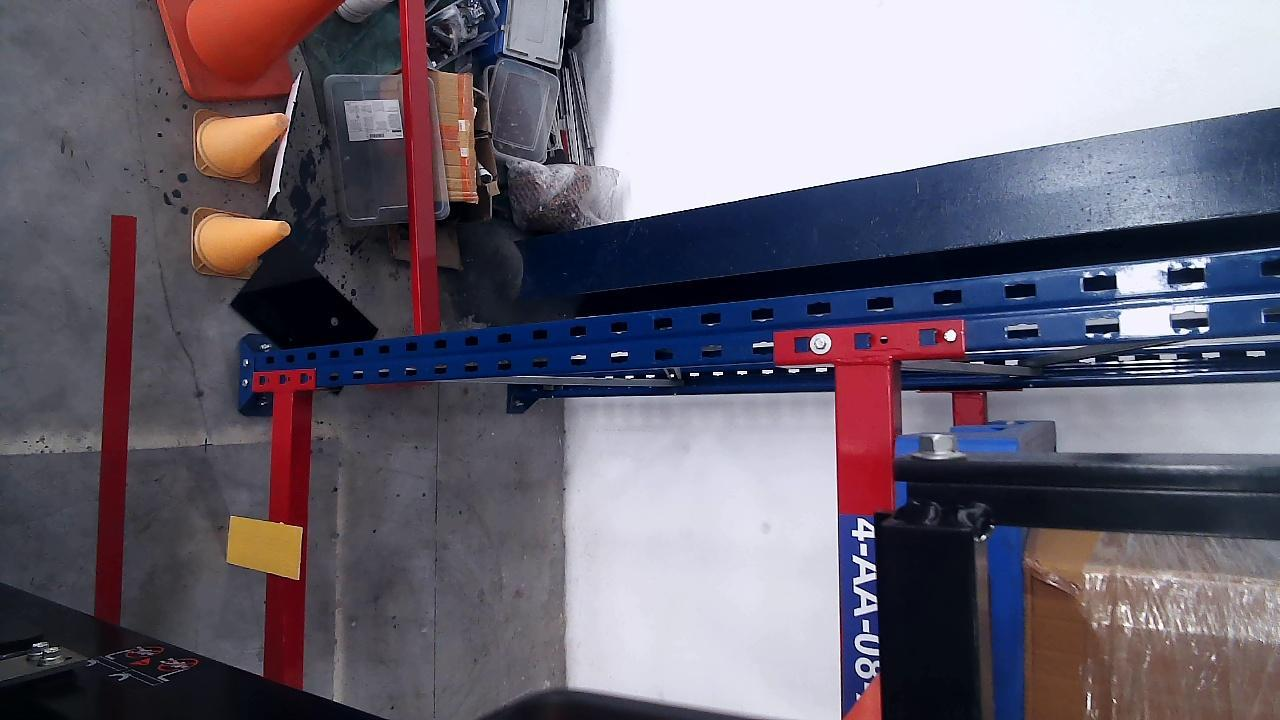h_rack: (836, 365, 894, 720), (263, 391, 293, 686)
orange_strip: (226, 515, 302, 579)
red_line: (96, 216, 136, 620)
